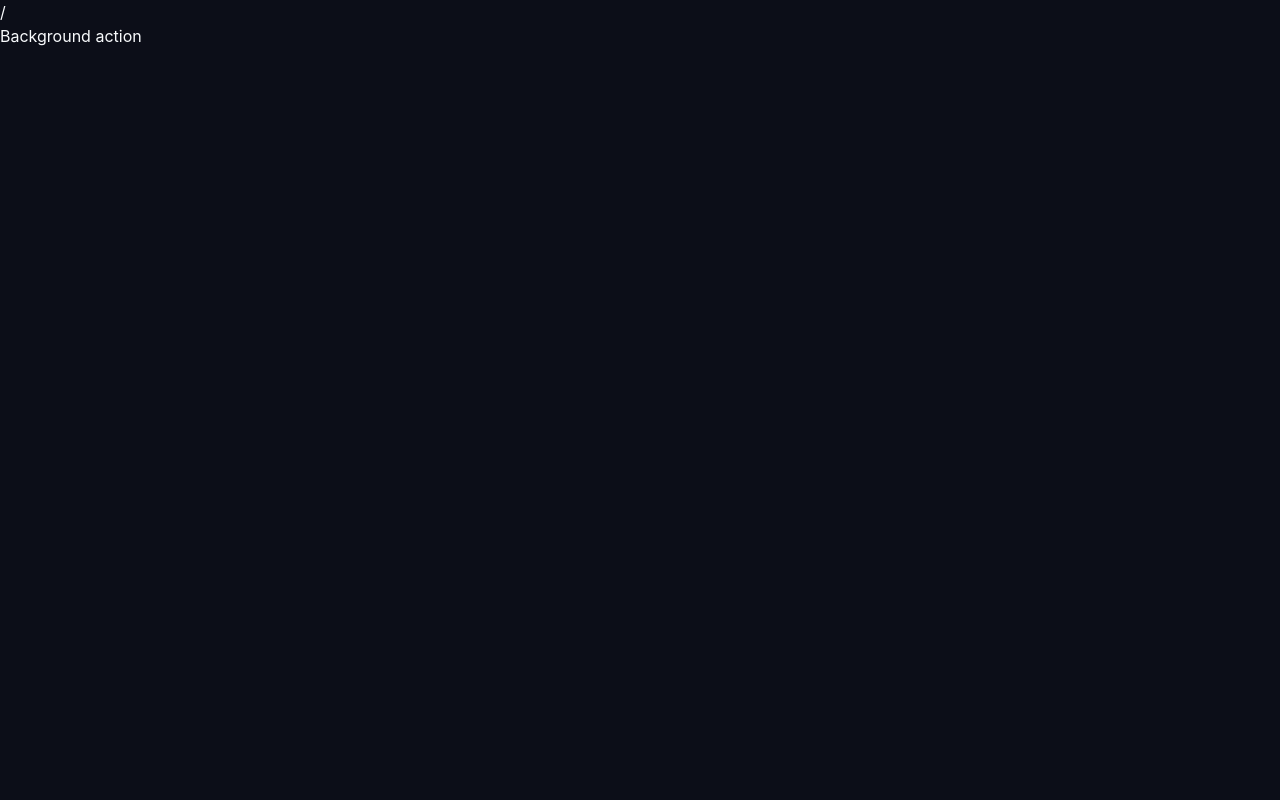
Test case: CommandPalette › ignores Enter and Escape during IME composition and executes after composition ends
Press k
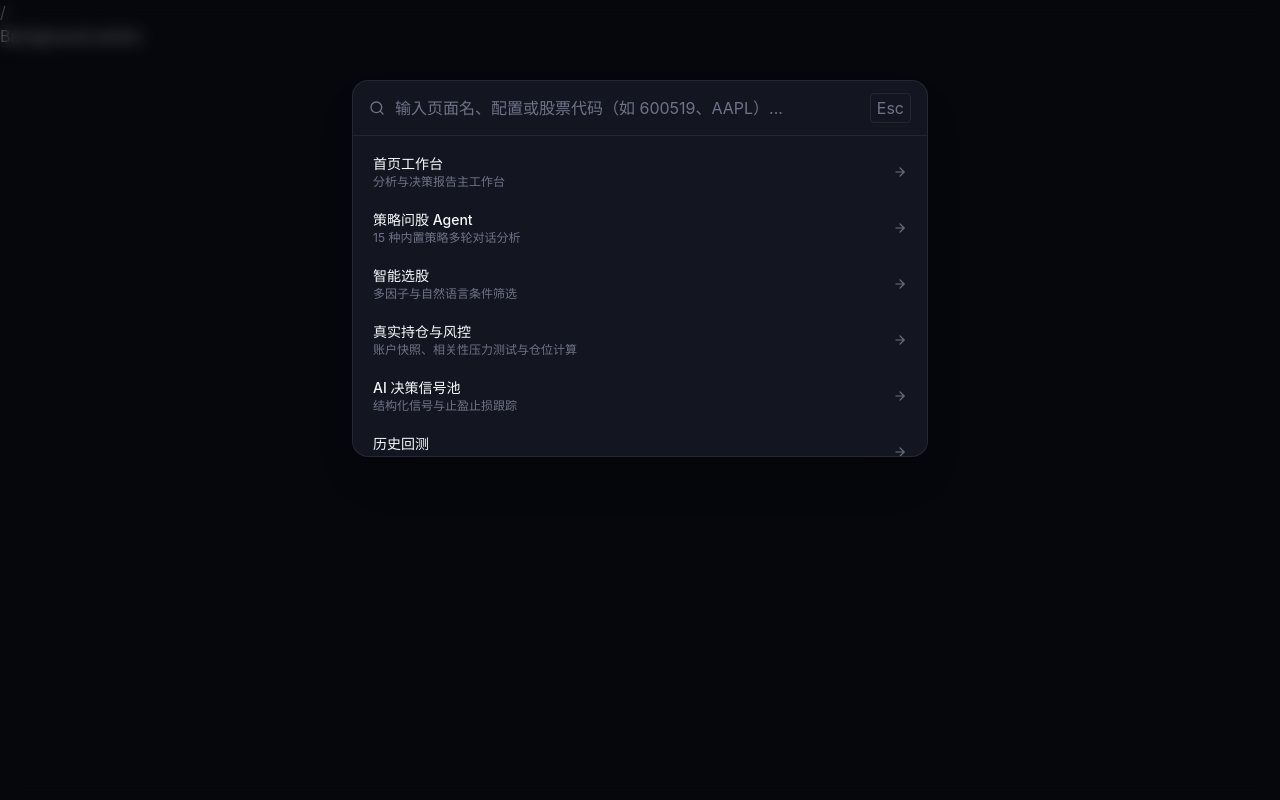
Press Enter in the field, box [395,96,860,120]
Expected: the text with test id "current-route" reads "/", [0,2,6,22]
Now the dialog is shown
Press Escape
Now the dialog is shown
Type "backtest" into the field.
click(627, 108); type("backtest")  # box [395,96,860,120]
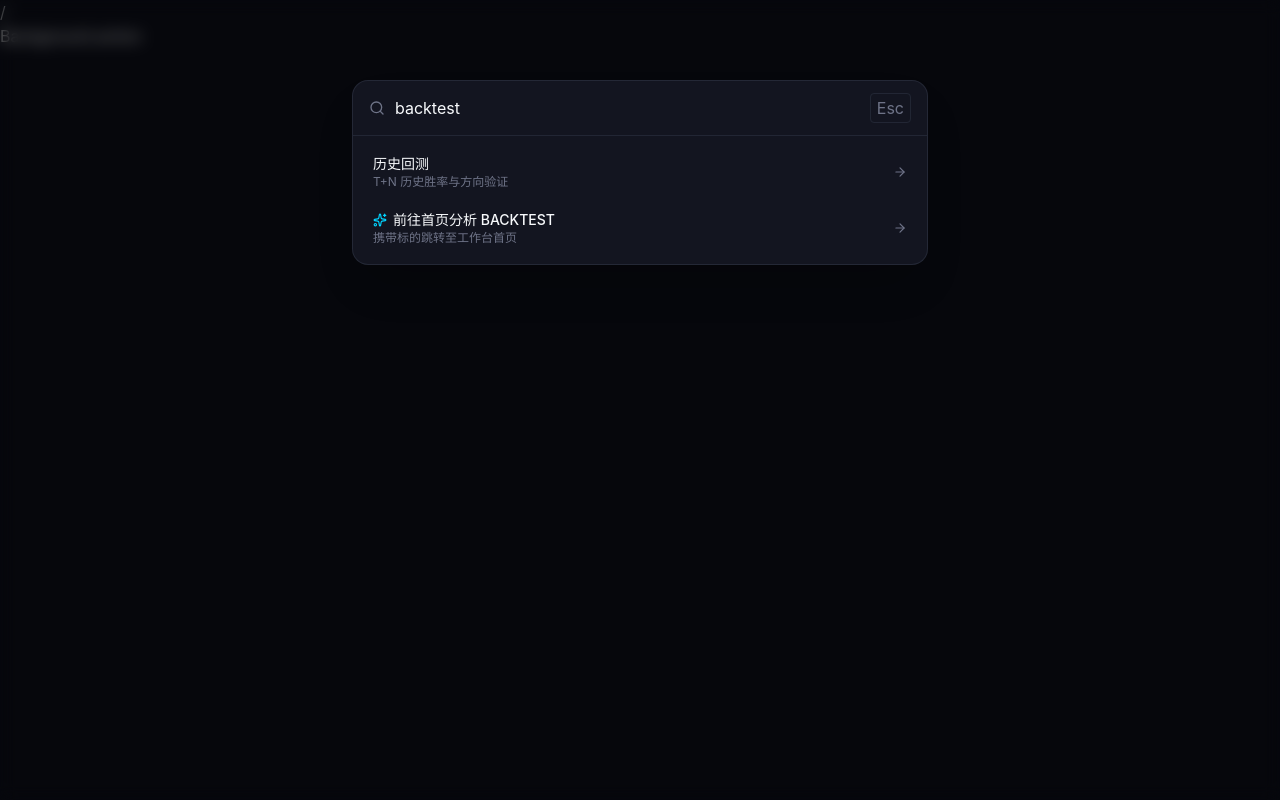
Press Enter in the field, box [395,96,860,120]
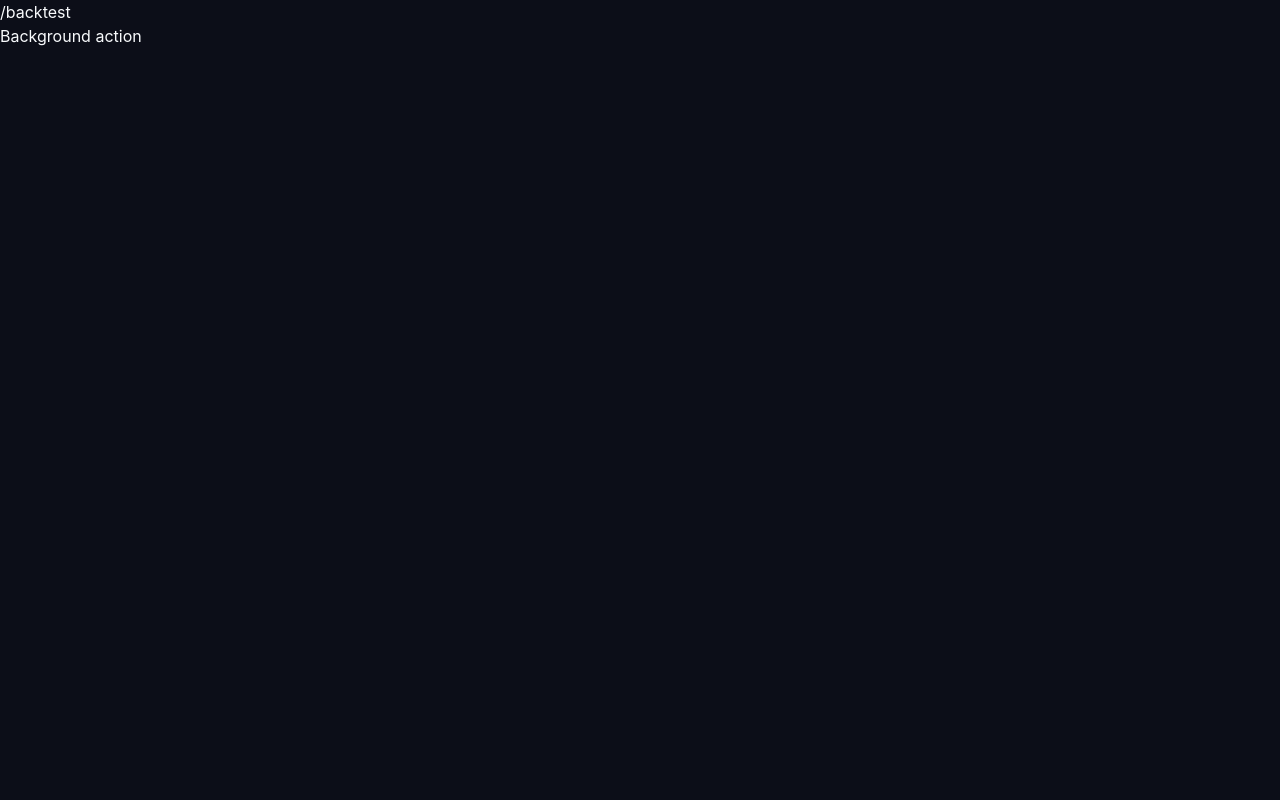
Now the dialog is gone
Now the text with test id "current-route" reads "/backtest", box [0,2,71,22]
